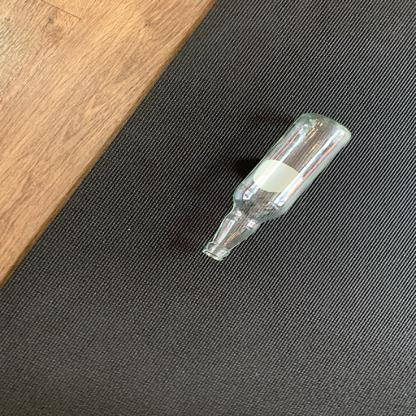trash: (201, 111, 354, 265)
